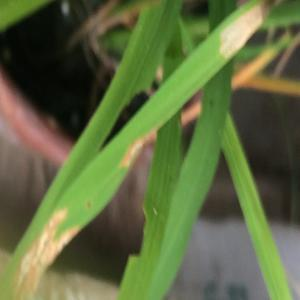1 RiceBlast: (1, 200, 72, 287), (112, 119, 161, 163)
